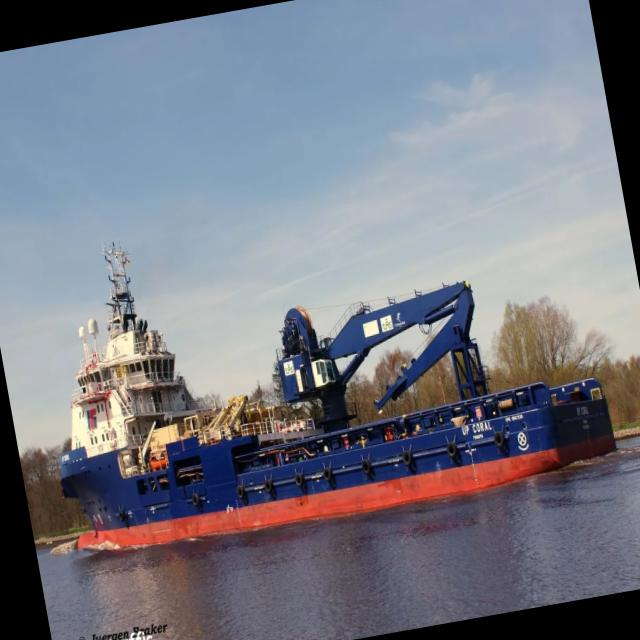Offshore: (59, 247, 615, 545), (87, 319, 98, 335)
